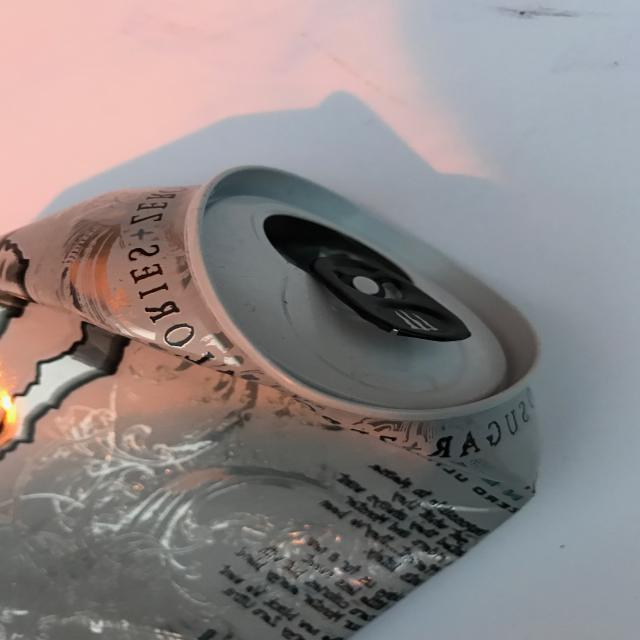metal: (0, 90, 574, 640)
